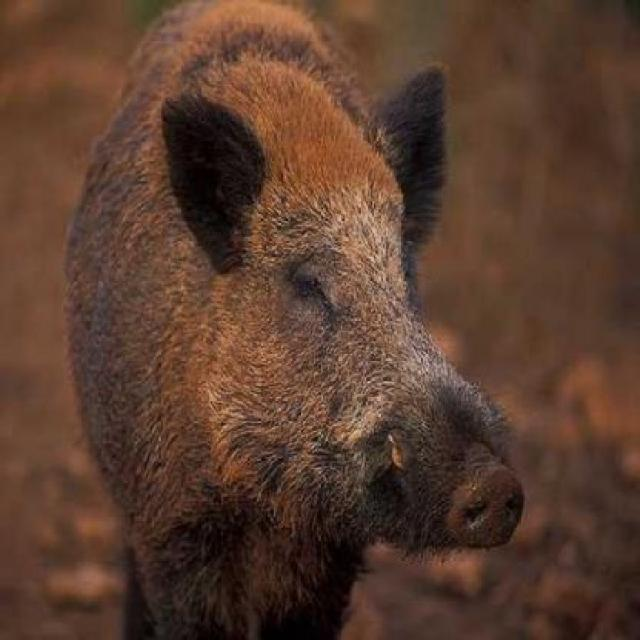pig: (68, 19, 524, 638)
